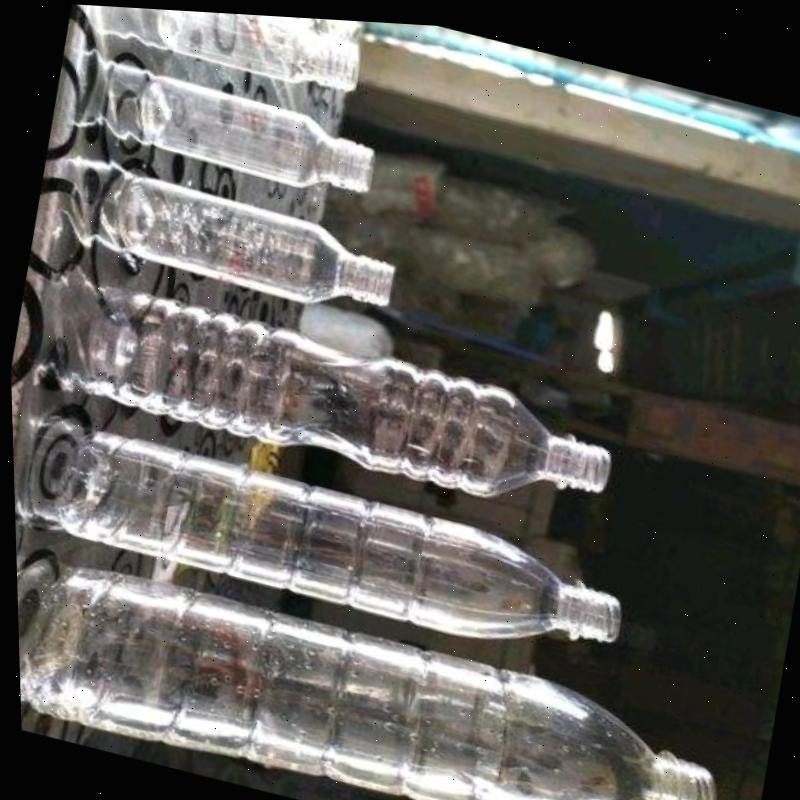botella: (13, 547, 722, 800), (43, 421, 626, 669), (77, 283, 620, 524)
